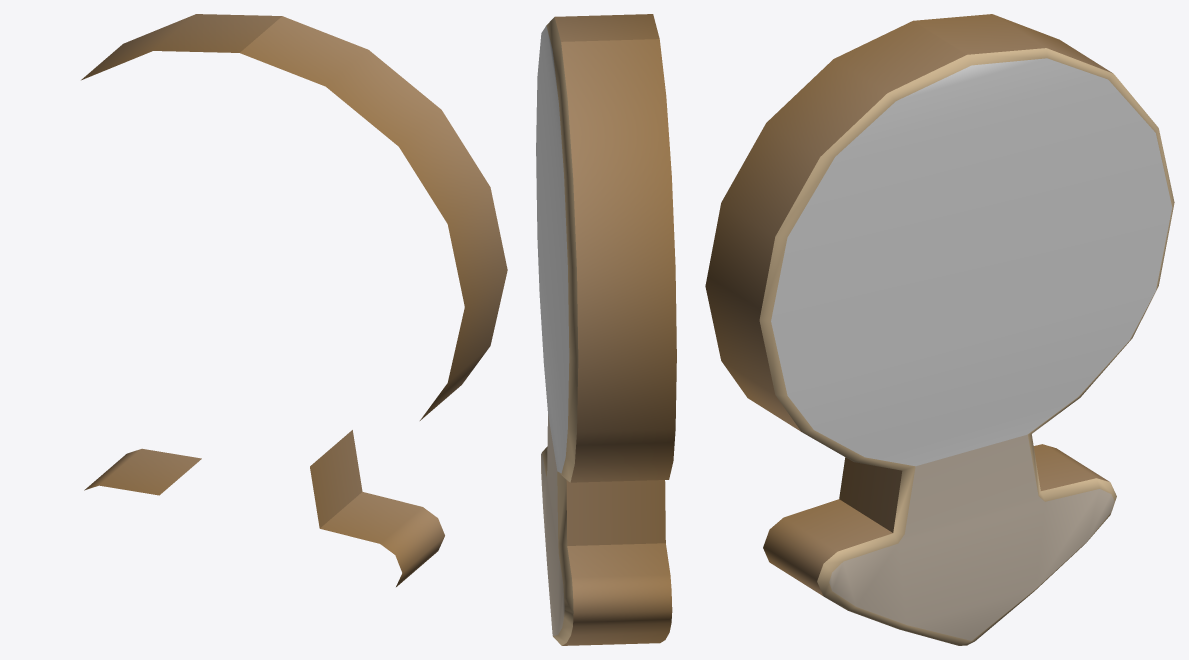
The model's file is ExchangeSign_2.glb.
3 views of the same model, side by side, from view 1: azimuth 30°, elevation 25°; view 2: azimuth 150°, elevation 25°; view 3: azimuth 270°, elevation 25° (orthographic).
Visible parts, largest first — view 1: ExchangeSign; view 2: ExchangeSign; view 3: ExchangeSign.
Boxes of the visible parts, x1=… form: ExchangeSign: x1=81, y1=14, x2=507, y2=586; ExchangeSign: x1=536, y1=14, x2=676, y2=645; ExchangeSign: x1=705, y1=14, x2=1174, y2=645.
Bounding box in the file's own units: 0.6426 × 1.16 × 0.8341.
